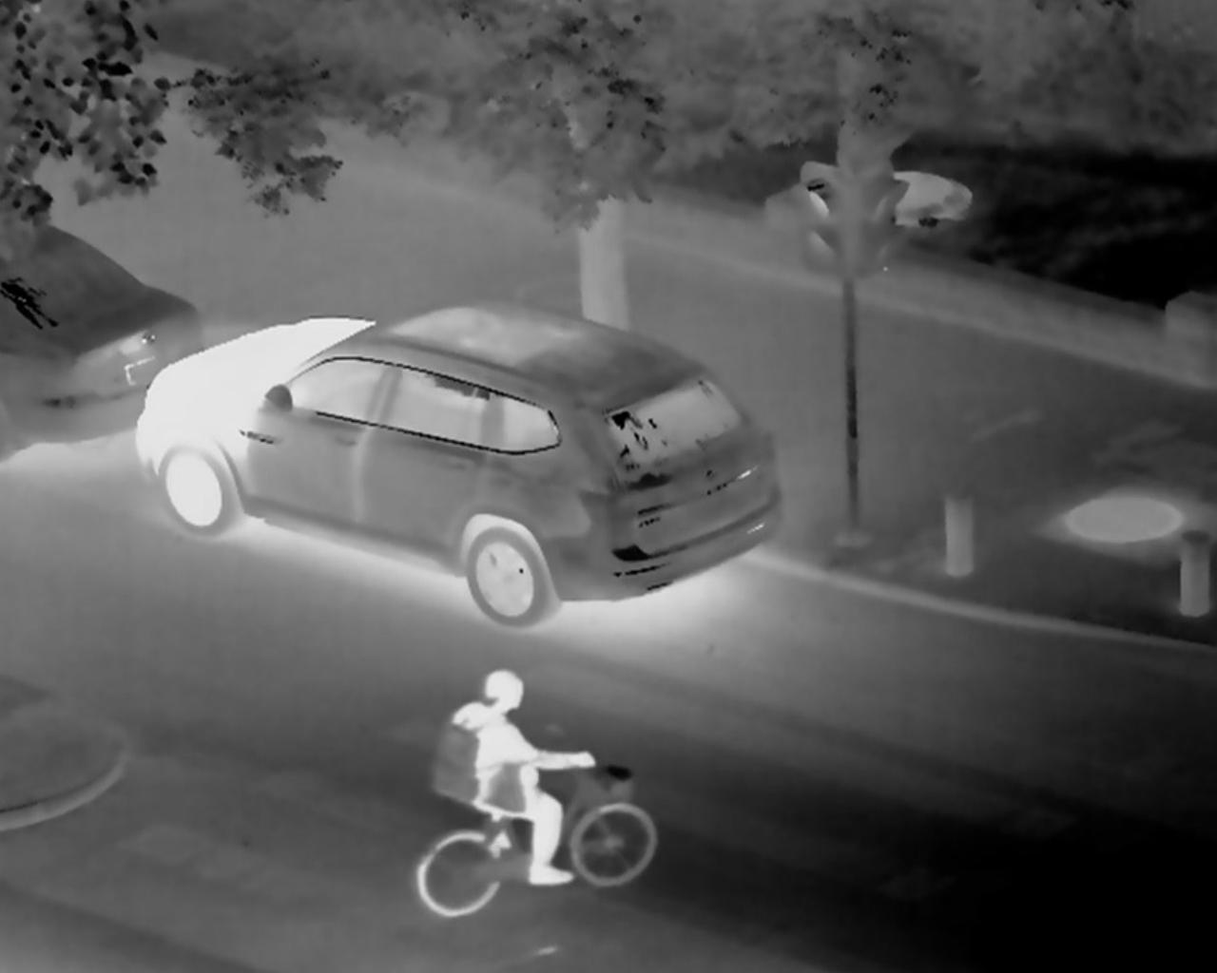person: (426, 657, 614, 916)
